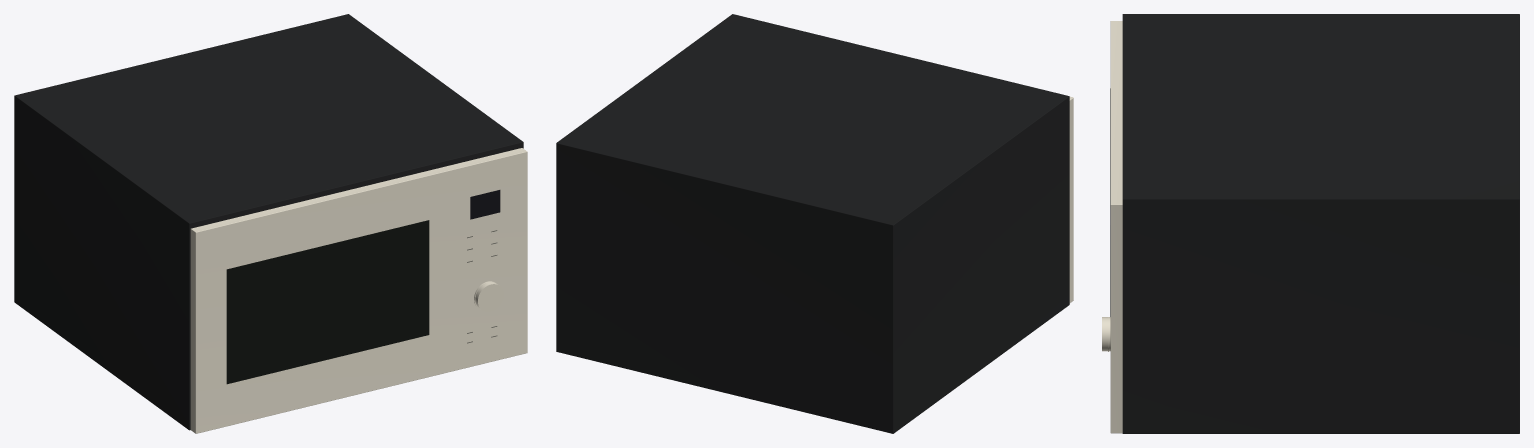
File: MLJ28-b34-429a60.glb
3 views of the same model, side by side, from view 1: azimuth 30°, elevation 25°; view 2: azimuth 150°, elevation 25°; view 3: azimuth 270°, elevation 25° (orthographic). The views are drawn at different scales.
Parts seen in each view (by area): view 1: BodyShell, ControlKnob, TopVent_0_0, ControlDisplay; view 2: BodyShell, ControlKnob; view 3: BodyShell, ControlKnob.
Part boxes in pixels (x1,y1,x2,y2): BodyShell: (14,14,523,430); ControlKnob: (190,148,527,433); TopVent_0_0: (226,220,429,384); ControlDisplay: (470,190,500,219); BodyShell: (556,14,1069,433); ControlKnob: (1069,96,1073,303); BodyShell: (1122,14,1519,433); ControlKnob: (1102,21,1122,433).
Size of the model in its own units: 0.512 by 0.311 by 0.488.
